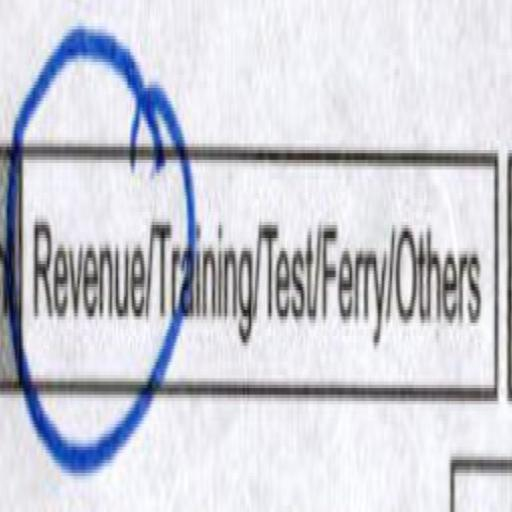check: (24, 19, 144, 494)
